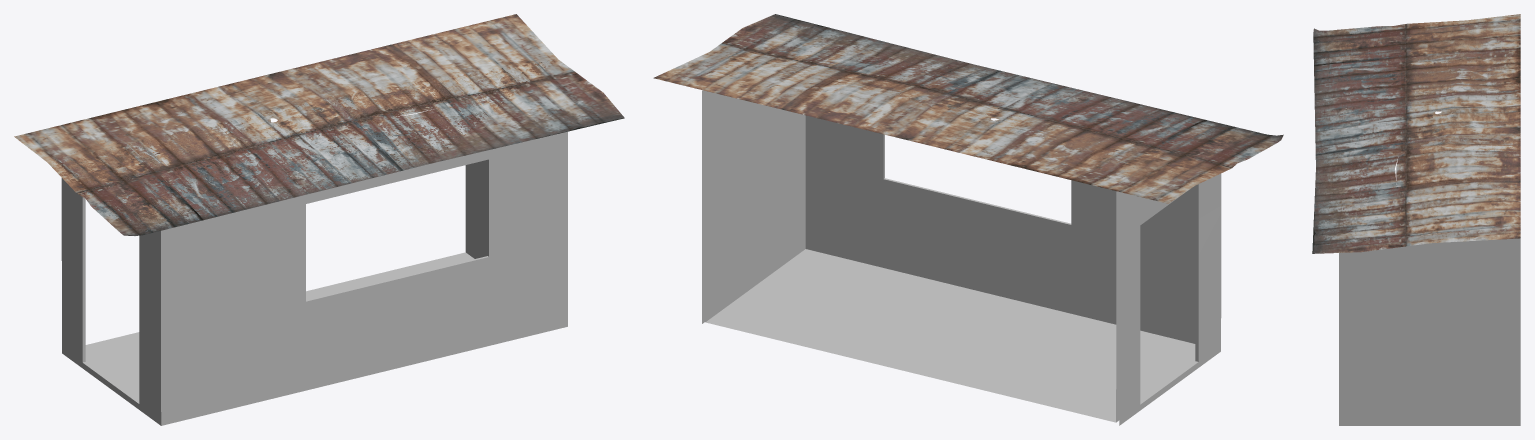
The model's file is Porch_08.fbx.
3 renders of one model, left to right at view 1: azimuth 30°, elevation 25°; view 2: azimuth 150°, elevation 25°; view 3: azimuth 270°, elevation 25°, orthographic. The views are drawn at different scales.
Visible parts, largest first — view 1: Porch_08; view 2: Porch_08; view 3: Porch_08.
Part boxes in pixels (x1,y1,x2,y2): Porch_08: (14,14,624,425); Porch_08: (653,14,1283,425); Porch_08: (1312,14,1520,425).
Bounding box in the file's own units: 692 × 271 × 302.
